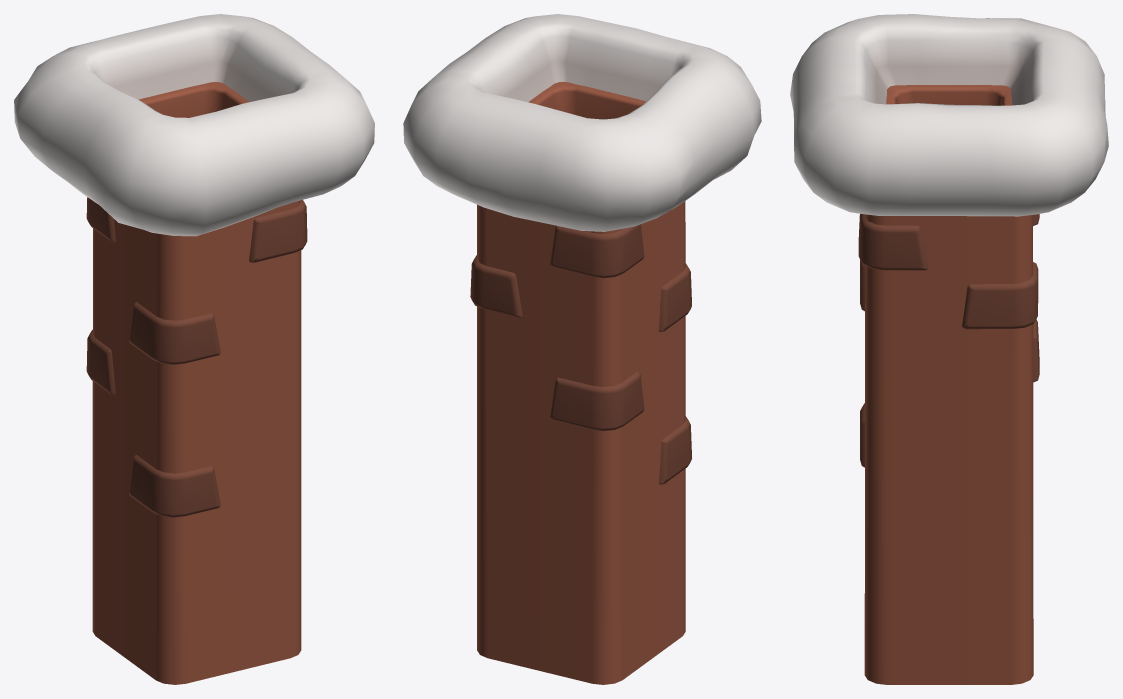
The model's file is Fireplace_pipe_001.fbx.
The picture shows the model from 3 angles, left to right: view 1: azimuth 30°, elevation 25°; view 2: azimuth 150°, elevation 25°; view 3: azimuth 270°, elevation 25°; orthographic projection. The views are drawn at different scales.
Visible parts, largest first — view 1: Fireplace_pipe_001; view 2: Fireplace_pipe_001; view 3: Fireplace_pipe_001.
Boxes of the visible parts, bbox=[...] form: Fireplace_pipe_001: bbox=[14, 14, 374, 684]; Fireplace_pipe_001: bbox=[403, 14, 761, 684]; Fireplace_pipe_001: bbox=[790, 14, 1108, 684].
Size of the model in its own units: 1.69 by 3.43 by 1.69.
